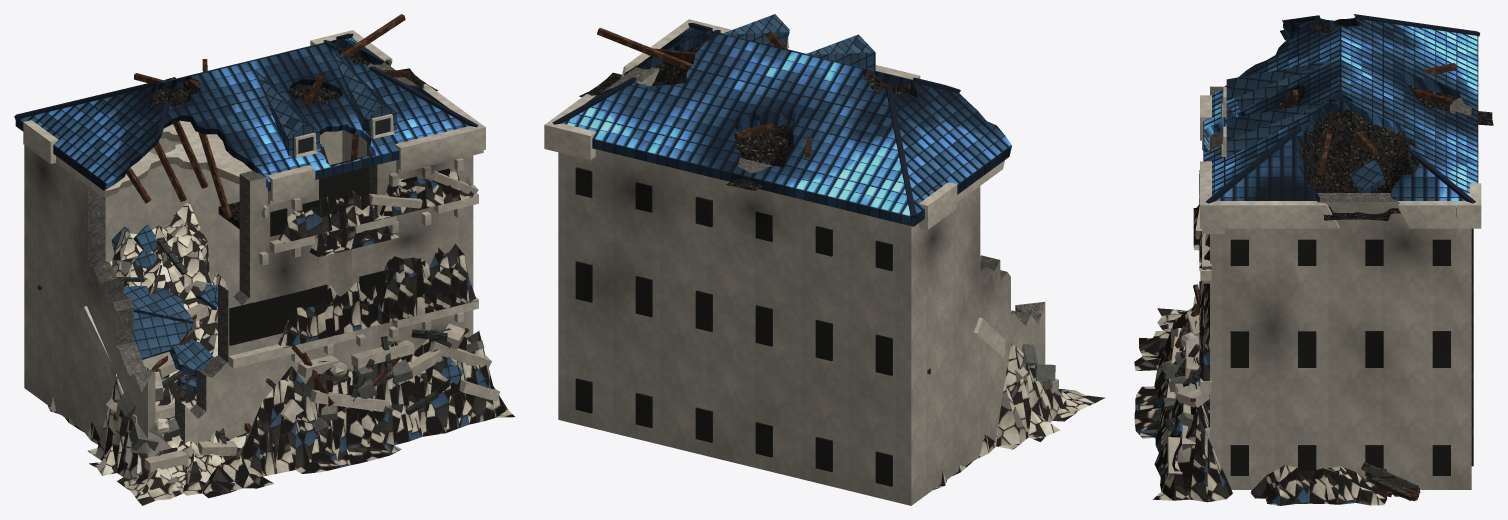
Rendered from CreBuild07a.glb.
3 renders of one model, left to right at view 1: azimuth 30°, elevation 25°; view 2: azimuth 150°, elevation 25°; view 3: azimuth 270°, elevation 25°, orthographic. The views are drawn at different scales.
Visible parts, largest first — view 1: CreBuild07a_wall; view 2: CreBuild07a_wall; view 3: CreBuild07a_wall.
Part boxes in pixels (bbox=[...]): CreBuild07a_wall: bbox=[14, 14, 514, 505]; CreBuild07a_wall: bbox=[544, 14, 1105, 505]; CreBuild07a_wall: bbox=[1134, 14, 1493, 505].
Bounding box in the file's own units: 14.15 × 11.83 × 10.86.
20 materials, 17 textured.
